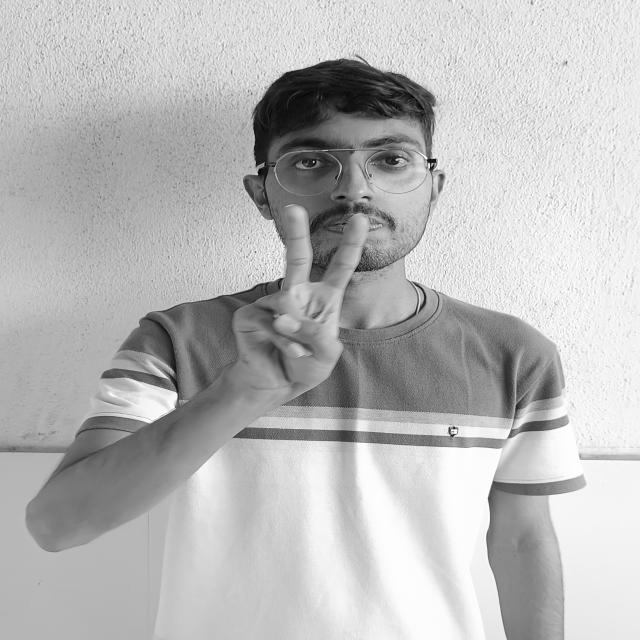Victory: (174, 197, 444, 406)
